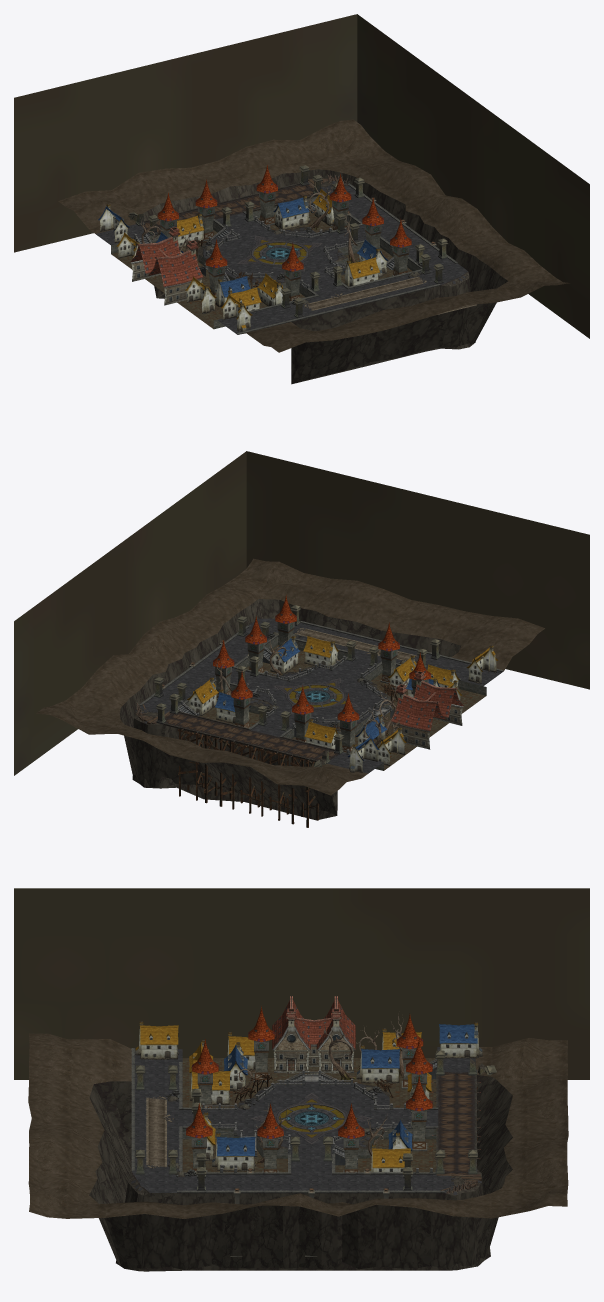
Rendered from Scene_jiangshixiaozhen_3&1.FBX.
The picture shows the model from 3 angles, top to bottom: view 1: azimuth 30°, elevation 25°; view 2: azimuth 150°, elevation 25°; view 3: azimuth 270°, elevation 25°; orthographic projection. The views are drawn at different scales.
Parts seen in each view (by area): view 1: Scene_jiangshixiaozhen_d1, Scene_jiangshixiaozhen_a1, Scene_jiangshixiaozhen_b1, Scene_jiangshixiaozhen_c1; view 2: Scene_jiangshixiaozhen_d1, Scene_jiangshixiaozhen_a1, Scene_jiangshixiaozhen_b1, Scene_jiangshixiaozhen_c1; view 3: Scene_jiangshixiaozhen_d1, Scene_jiangshixiaozhen_a1, Scene_jiangshixiaozhen_b1, Scene_jiangshixiaozhen_c1.
Part boxes in pixels (bbox=[...]): Scene_jiangshixiaozhen_d1: bbox=[14, 14, 589, 352]; Scene_jiangshixiaozhen_a1: bbox=[111, 165, 507, 384]; Scene_jiangshixiaozhen_b1: bbox=[98, 183, 436, 331]; Scene_jiangshixiaozhen_c1: bbox=[128, 165, 448, 318]; Scene_jiangshixiaozhen_d1: bbox=[14, 451, 589, 795]; Scene_jiangshixiaozhen_a1: bbox=[119, 595, 503, 827]; Scene_jiangshixiaozhen_b1: bbox=[162, 636, 498, 772]; Scene_jiangshixiaozhen_c1: bbox=[153, 605, 440, 767]; Scene_jiangshixiaozhen_d1: bbox=[14, 888, 589, 1218]; Scene_jiangshixiaozhen_a1: bbox=[89, 1006, 512, 1271]; Scene_jiangshixiaozhen_b1: bbox=[135, 996, 482, 1256]; Scene_jiangshixiaozhen_c1: bbox=[135, 1050, 496, 1190].
Size of the model in its own units: 5350 by 2807 by 6279.
